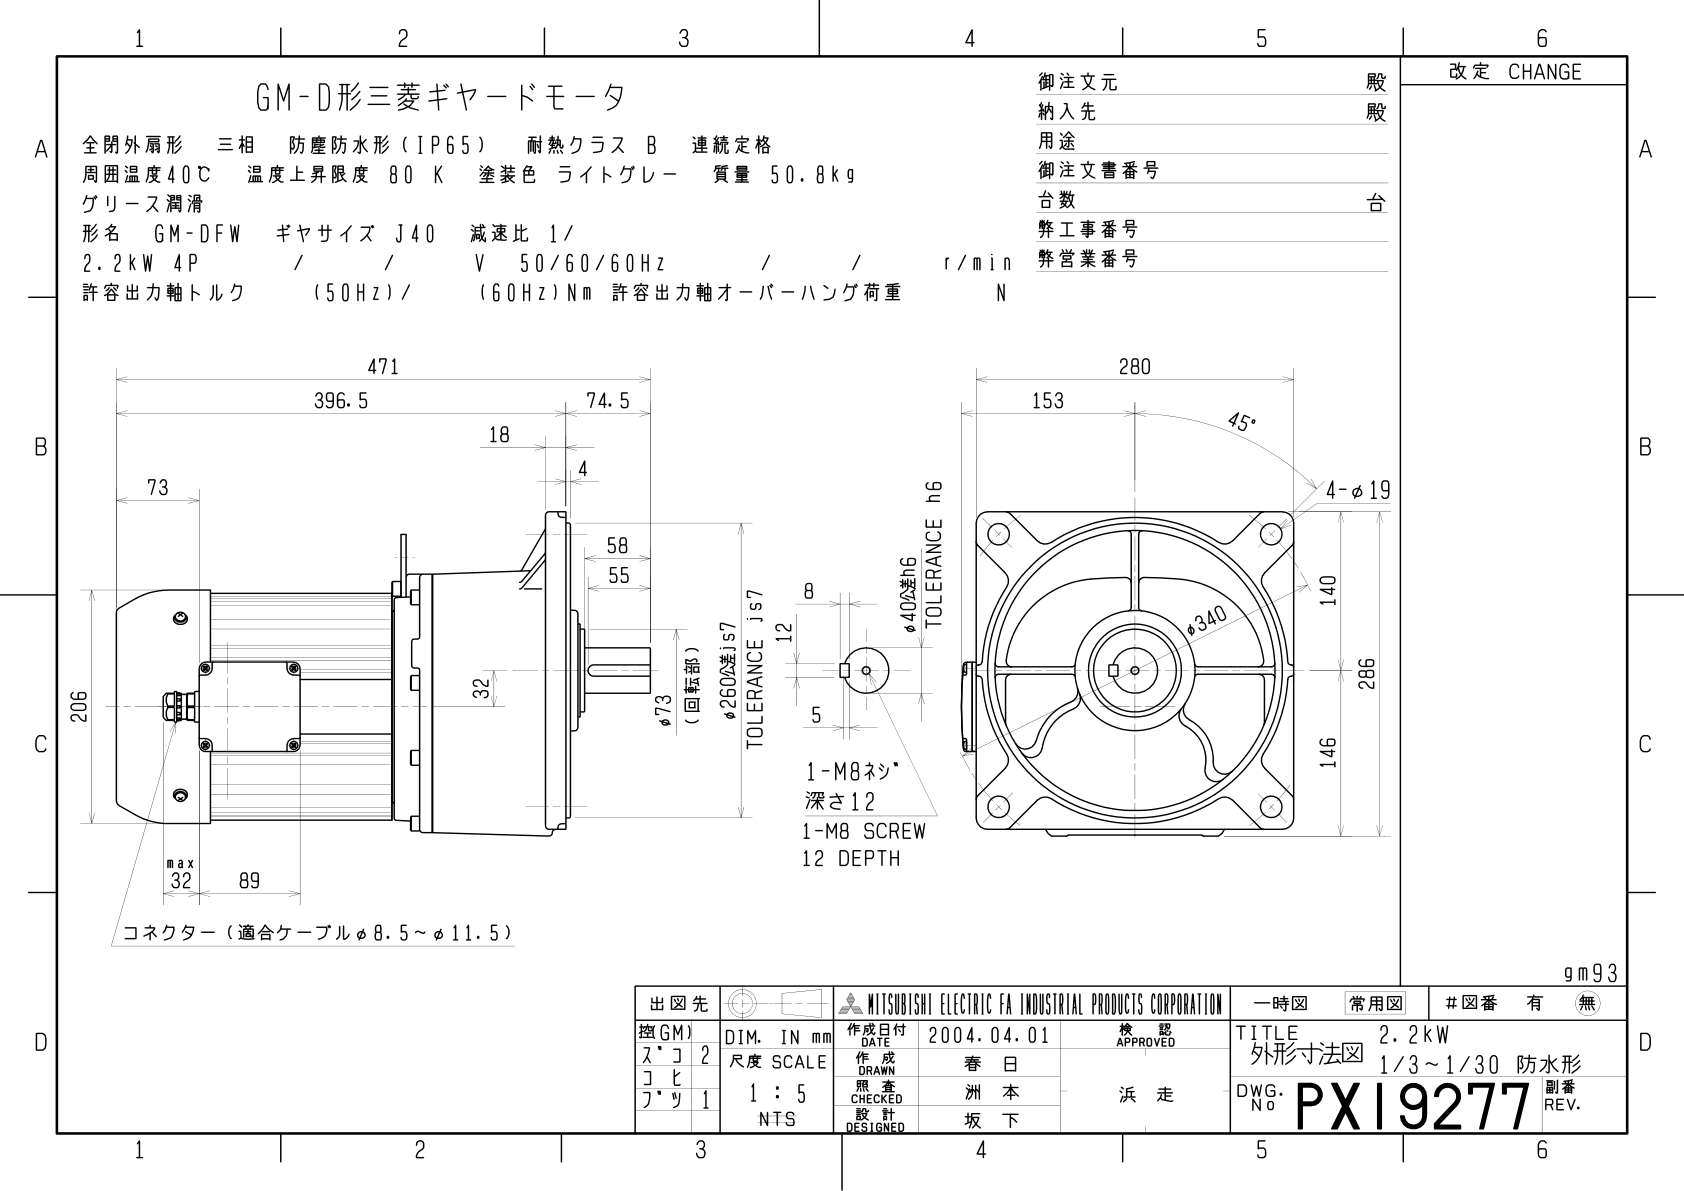GM_D_IP65_三相_フランジ: (61, 322, 1404, 963)
